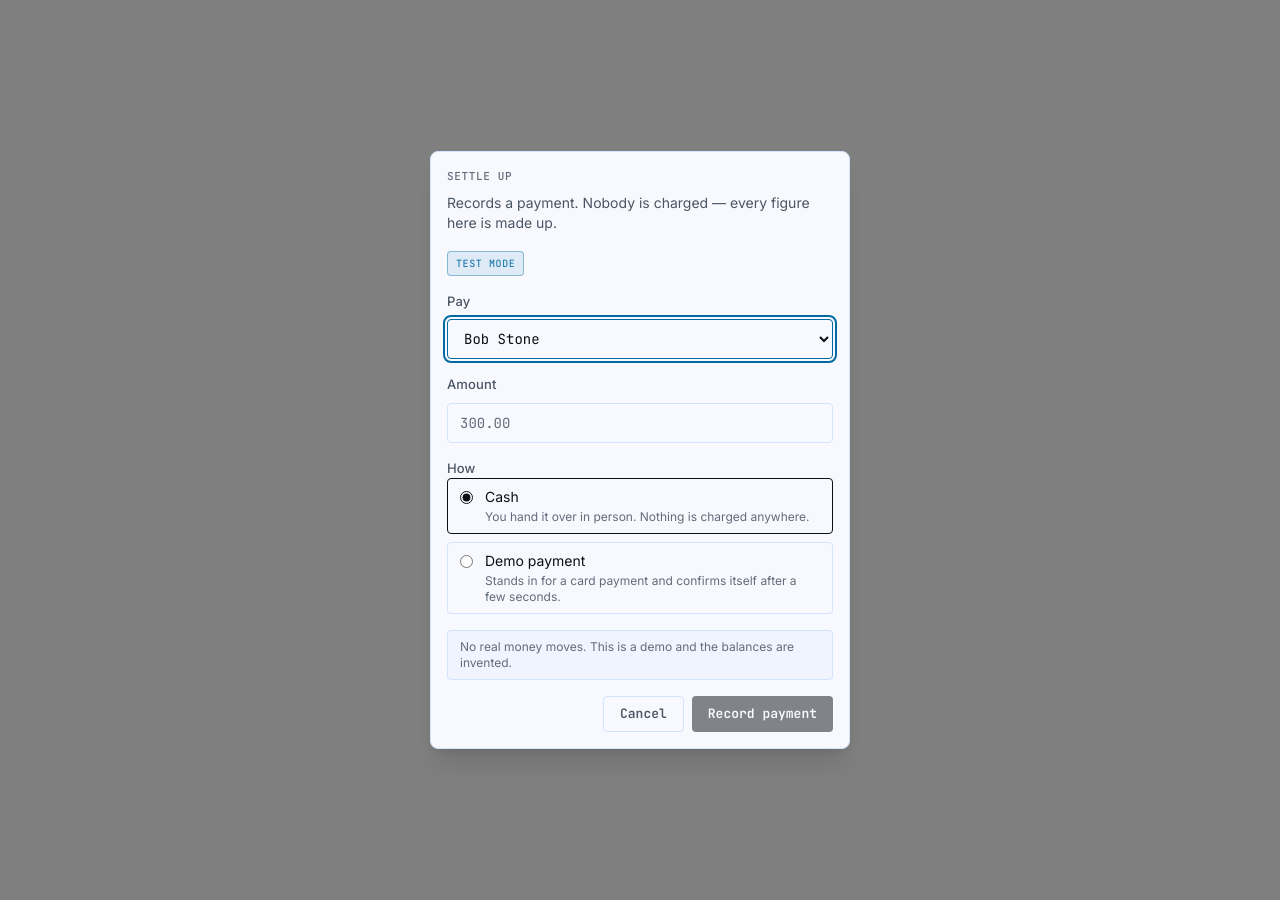
SettleUpDialog › refuses an amount finer than a paisa
Type "1.005" into the field labelled "Amount" at (640, 422), box 447,402 -> 833,442
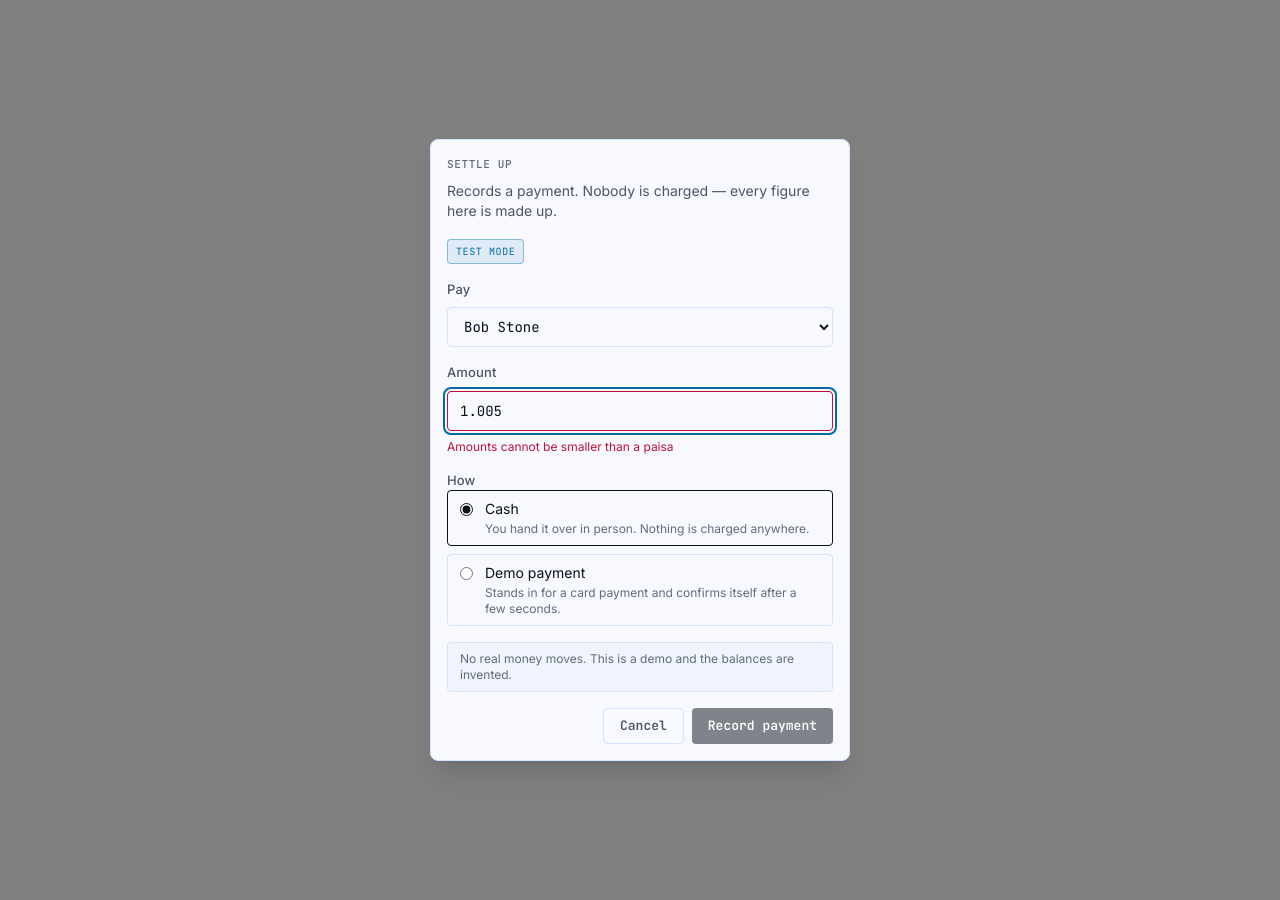
Expected: the button "Record payment" is disabled, 692,708 -> 833,744
Result: the text "Amounts cannot be smaller than a paisa" is shown at 447,438 -> 674,454
